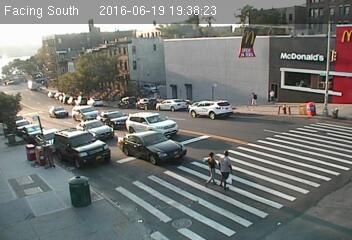neg: (280, 151, 311, 192), (30, 142, 58, 179), (130, 113, 154, 144), (29, 64, 52, 95), (74, 171, 96, 200), (98, 48, 118, 76), (179, 204, 199, 230), (161, 83, 180, 108), (207, 56, 223, 77), (125, 176, 141, 197), (327, 100, 342, 120), (246, 36, 260, 56), (90, 115, 104, 134), (281, 101, 293, 118), (307, 97, 319, 113), (306, 65, 318, 81)
pos: (213, 147, 243, 188), (198, 151, 223, 184), (248, 88, 262, 106), (267, 86, 279, 102)
